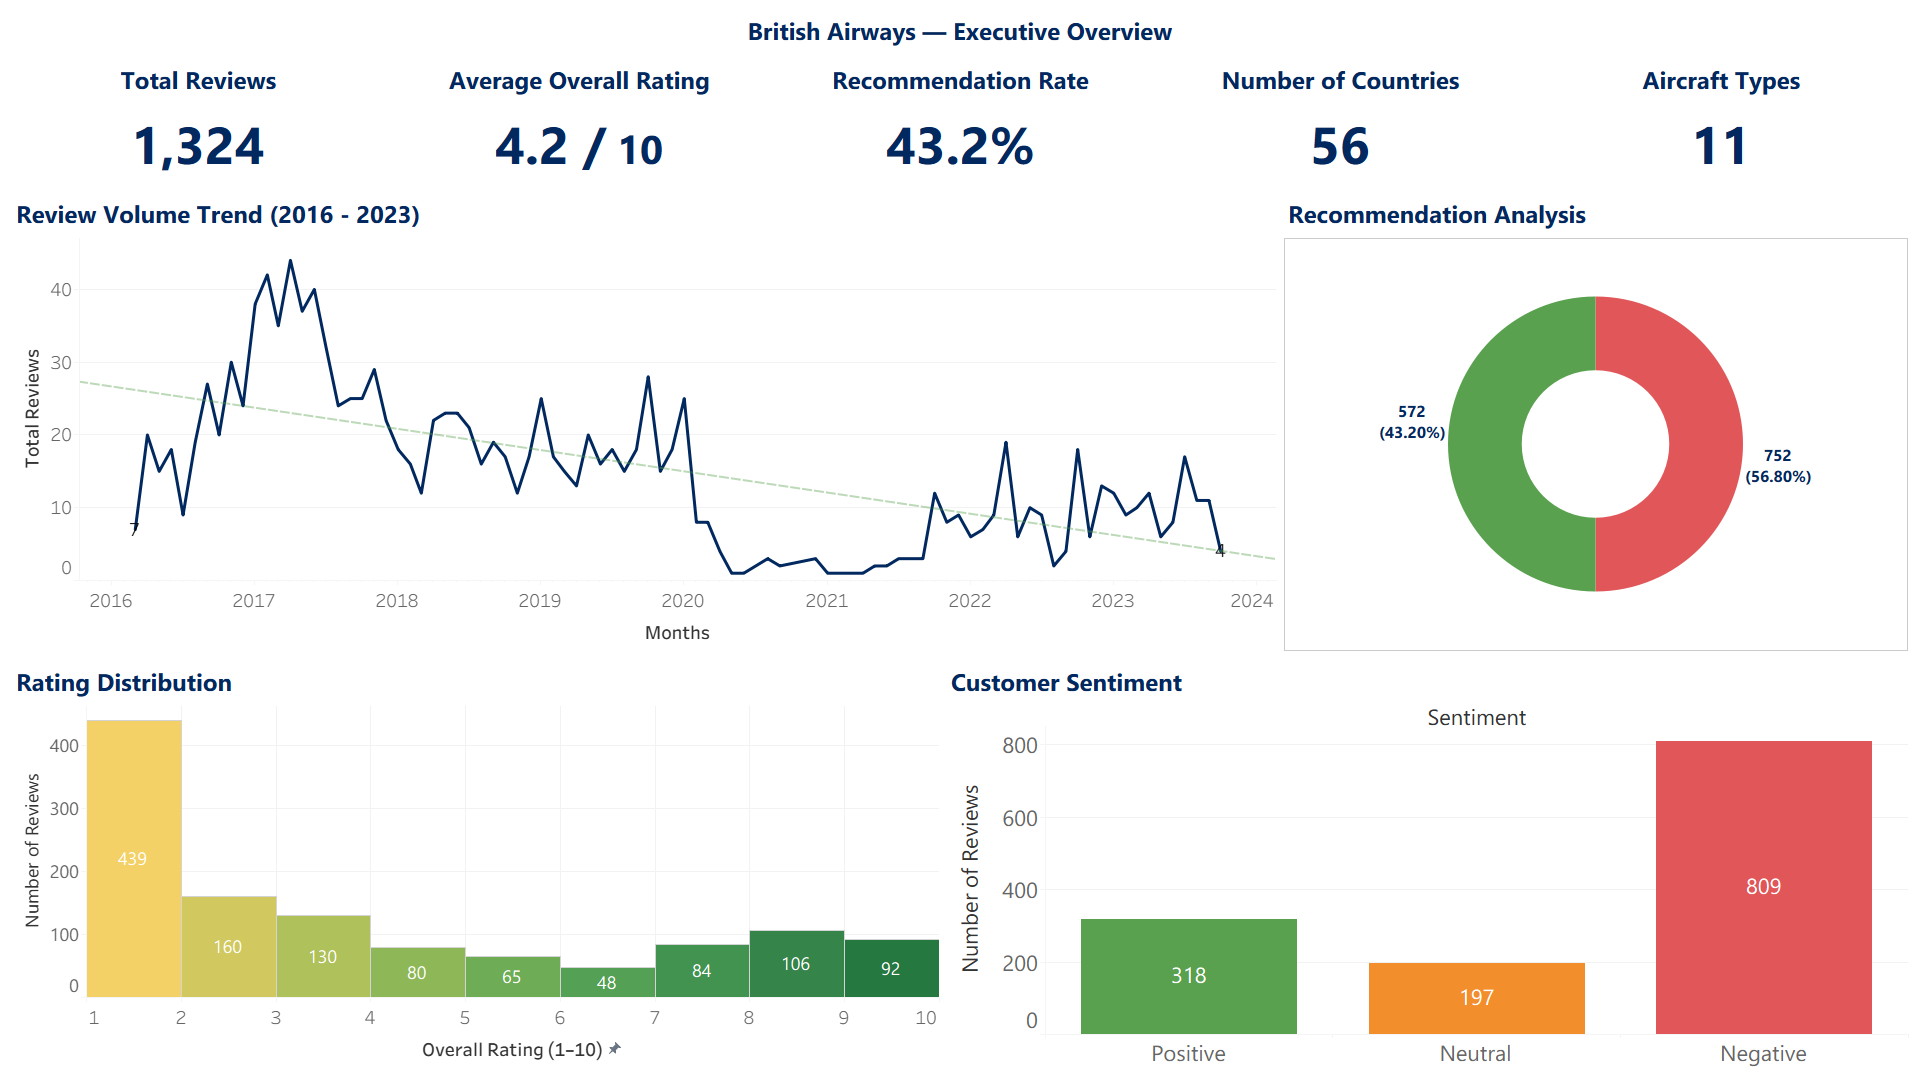

What the dashboard file says about the page in this screenshot:
{"tool":"tableau","page":{"name":"Dashboard 1 - Executive Overview 1","canvas":[1920,1080],"ordinal":0},"visuals":[{"type":"text","box":[8,8,1904,45.3]},{"type":"worksheet","title":"KPI - Total Reviews","mark":"Text","box":[8,53.3,380.8,134]},{"type":"worksheet","title":"KPI - Average Rating","mark":"Text","box":[388.8,53.3,380.8,134]},{"type":"worksheet","title":"KPI - Recommendation %","mark":"Text","box":[769.6,53.3,380.8,134]},{"type":"worksheet","title":"KPI - Countries","mark":"Text","box":[1150.4,53.3,380.8,134]},{"type":"worksheet","title":"KPI - Aircraft Types","mark":"Text","box":[1531.2,53.3,380.8,134]},{"type":"worksheet","title":"Monthly Review Trend","mark":"Line","rows":["Calculation_25606821813915649"],"cols":["Calculation_25606822252773396"],"box":[8,187.3,1271.7,468.1]},{"type":"worksheet","title":"Recommendation Analysis","mark":"Pie","rows":["Calculation_25606822280536087","Calculation_25606822280536087"],"box":[1279.7,187.3,632.3,468.1]},{"type":"worksheet","title":"Rating Distribution - 1","mark":"Automatic","rows":["header"],"cols":["Rating (bin)"],"box":[8,655.4,935.2,416.6]},{"type":"worksheet","title":"Customer Sentiment","mark":"Bar","rows":["header"],"cols":["sentiment"],"box":[943.2,655.4,968.8,416.6]}]}

Visuals, with their boxes in screenshot pixels (x1, y1, x2, y2), scaled from the page's 1920x1080 canvas onto the 1920x1080 screenshot:
text: bbox=[8, 8, 1912, 53]
"KPI - Total Reviews" worksheet (Text marks): bbox=[8, 53, 389, 187]
"KPI - Average Rating" worksheet (Text marks): bbox=[389, 53, 770, 187]
"KPI - Recommendation %" worksheet (Text marks): bbox=[770, 53, 1150, 187]
"KPI - Countries" worksheet (Text marks): bbox=[1150, 53, 1531, 187]
"KPI - Aircraft Types" worksheet (Text marks): bbox=[1531, 53, 1912, 187]
"Monthly Review Trend" worksheet (Line marks): bbox=[8, 187, 1280, 655]
"Recommendation Analysis" worksheet (Pie marks): bbox=[1280, 187, 1912, 655]
"Rating Distribution - 1" worksheet: bbox=[8, 655, 943, 1072]
"Customer Sentiment" worksheet (Bar marks): bbox=[943, 655, 1912, 1072]
